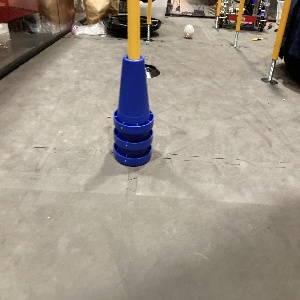Blue_3: (113, 56, 152, 165)
